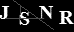J: (1, 5, 10, 20)
N: (38, 5, 54, 21)
R: (57, 10, 74, 25)
S: (18, 11, 30, 26)
